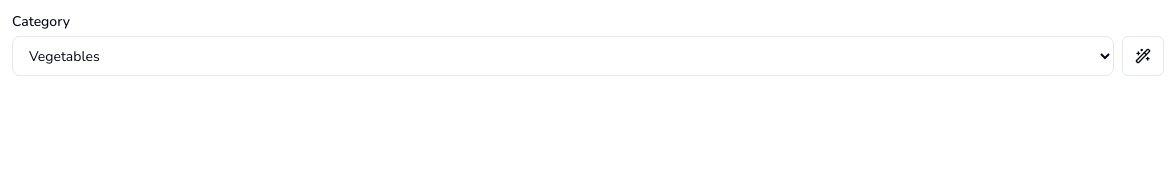
SmartCategorySelector › calls analyzeCategory when Smart Suggest is clicked and shows suggestion banner
This screenshot has width=1176, height=172.
Click the button named "smart suggest" at (1143,56), box [1122, 36, 1164, 76]
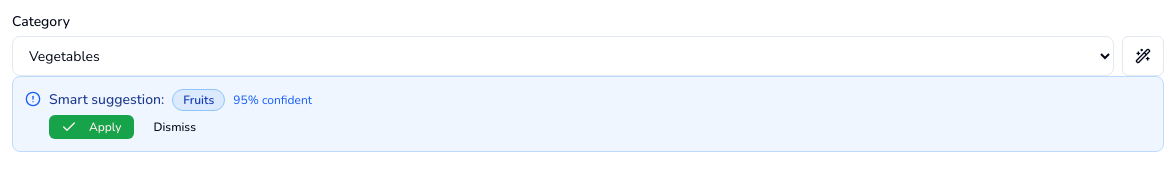
Expected: the text "Smart suggestion: Fruits 95% confident" is shown, [49, 89, 312, 111]
Expected: the text "Fruits" is shown, [172, 89, 225, 111]
